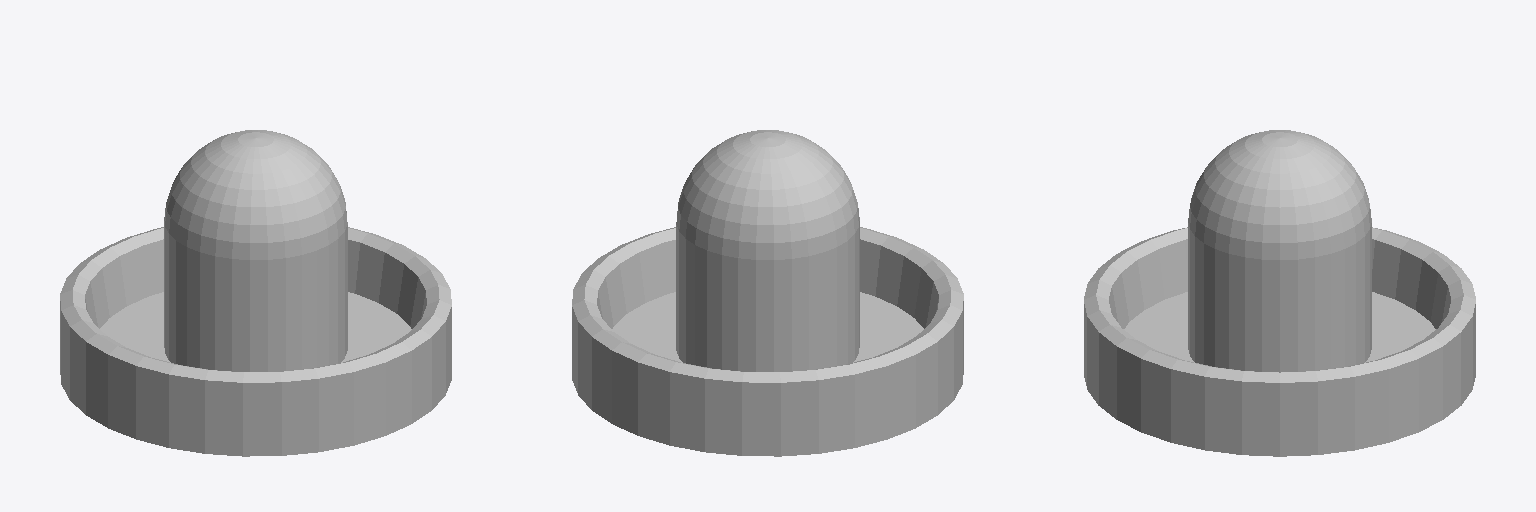
Rendered from strikerhires.obj.
3 views of the same model, side by side, from view 1: azimuth 30°, elevation 25°; view 2: azimuth 150°, elevation 25°; view 3: azimuth 270°, elevation 25° (orthographic).
Parts seen in each view (by area): view 1: Sphere; view 2: Sphere; view 3: Sphere.
Part boxes in pixels (bbox=[...]): Sphere: bbox=[60, 130, 451, 456]; Sphere: bbox=[572, 130, 963, 456]; Sphere: bbox=[1084, 130, 1475, 456].
Bounding box in the file's own units: 4.28 × 2.83 × 4.28.